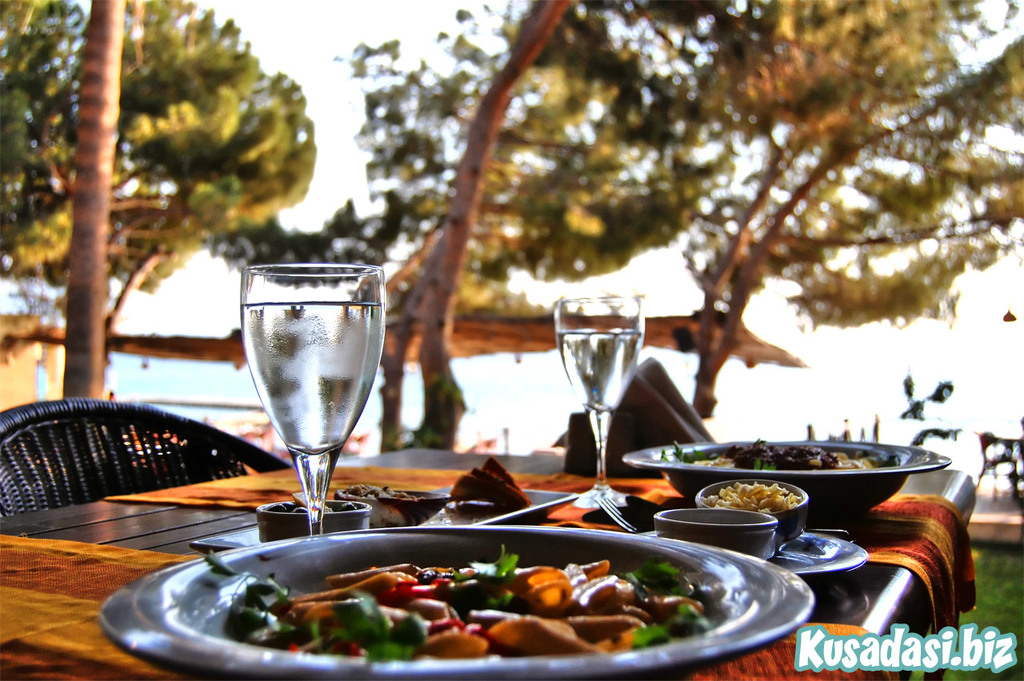salad: (230, 544, 698, 660)
